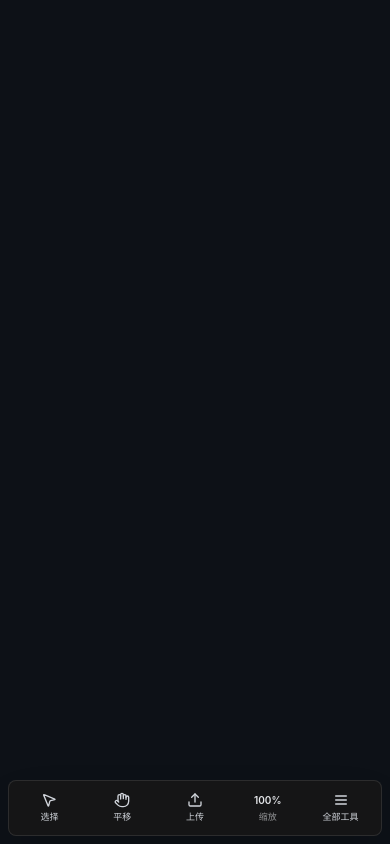
Test case: MobileBottomToolbar › runs the original action once and keeps all actions reachable in the drawer
The image size is (390, 844).
Click the button "全部工具": (341,808) [304, 792, 377, 824]
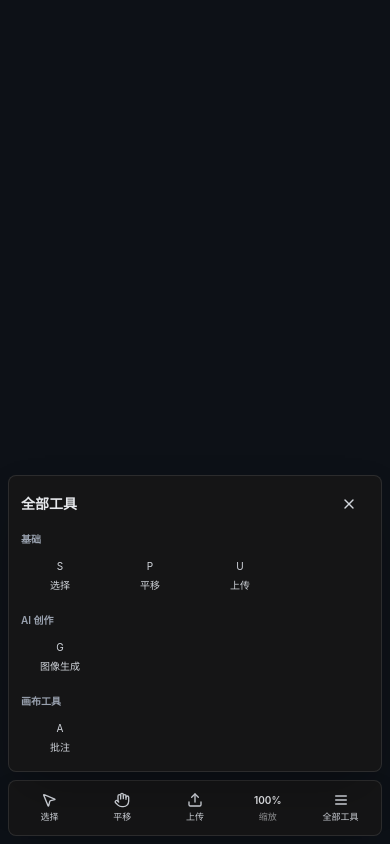
Click the button "G 图像生成": (60,657) [17, 632, 103, 682]
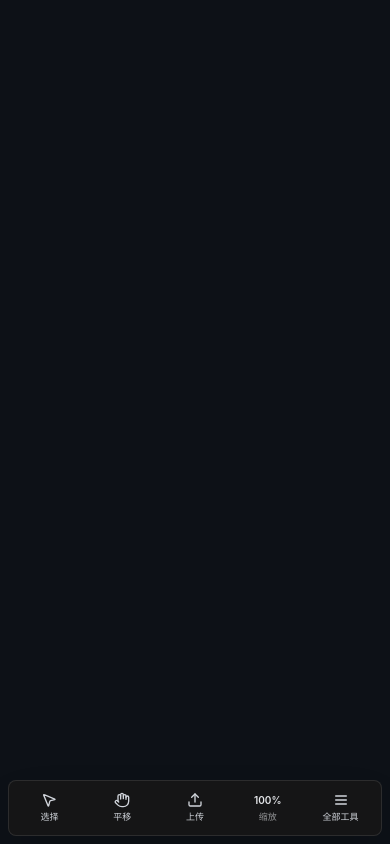
Expected: the dialog "全部工具 基础 S 选择 P 平移 U 上传 AI 创作 G 图像生成 画布工具 A 批注" is gone
